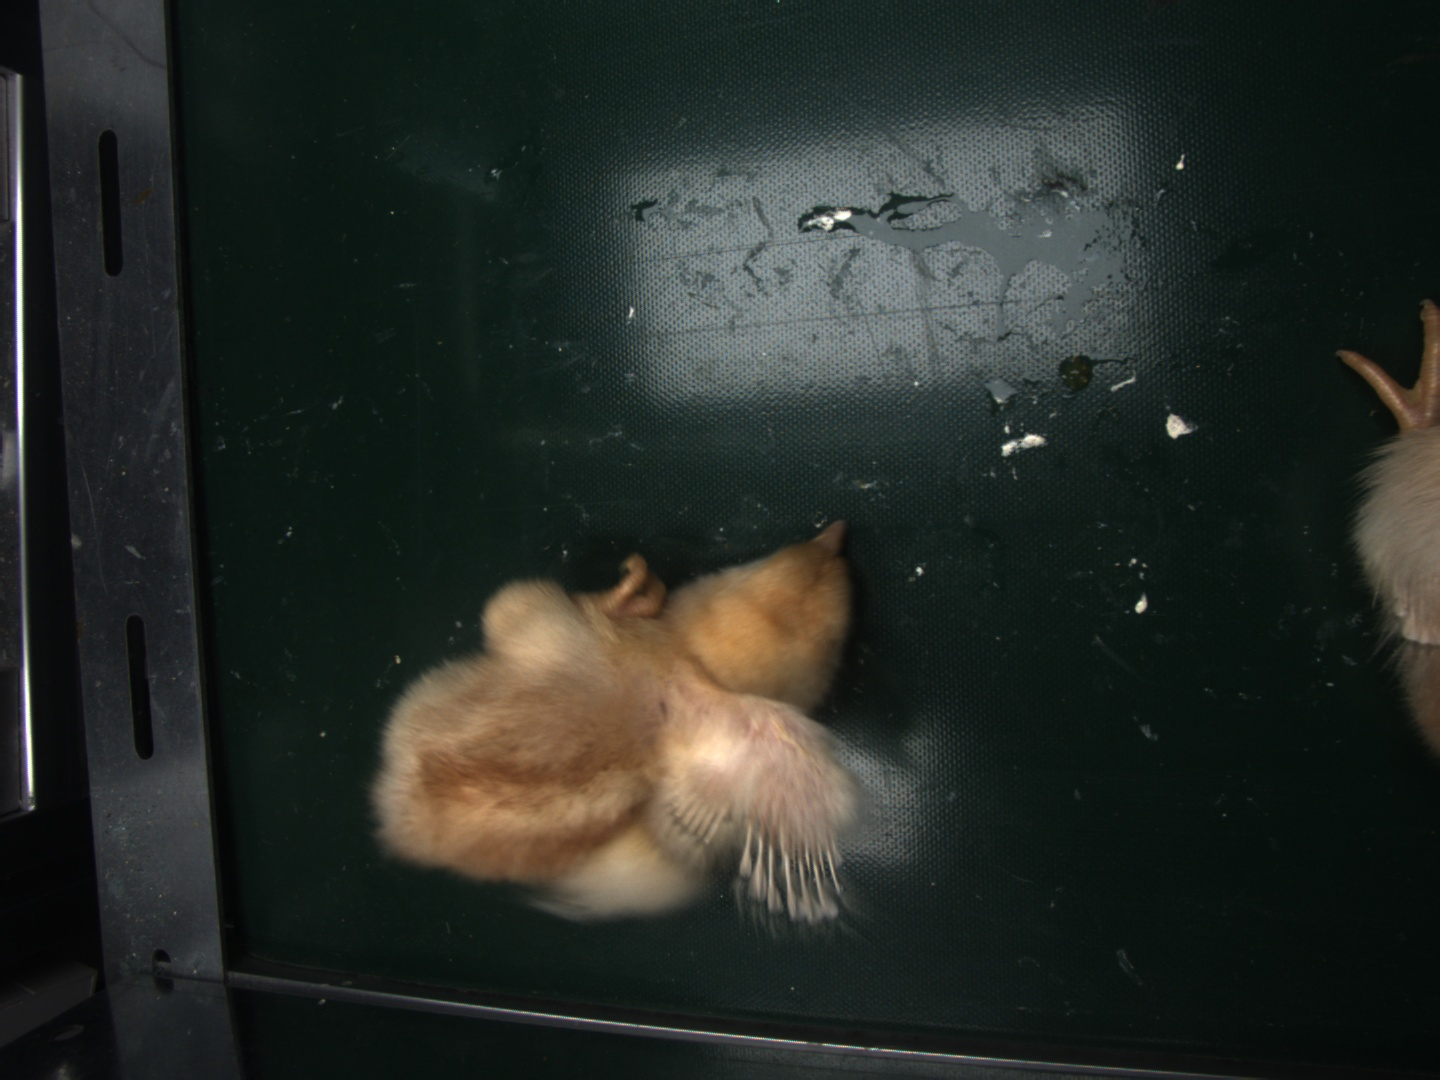female: (740, 824, 852, 923)
